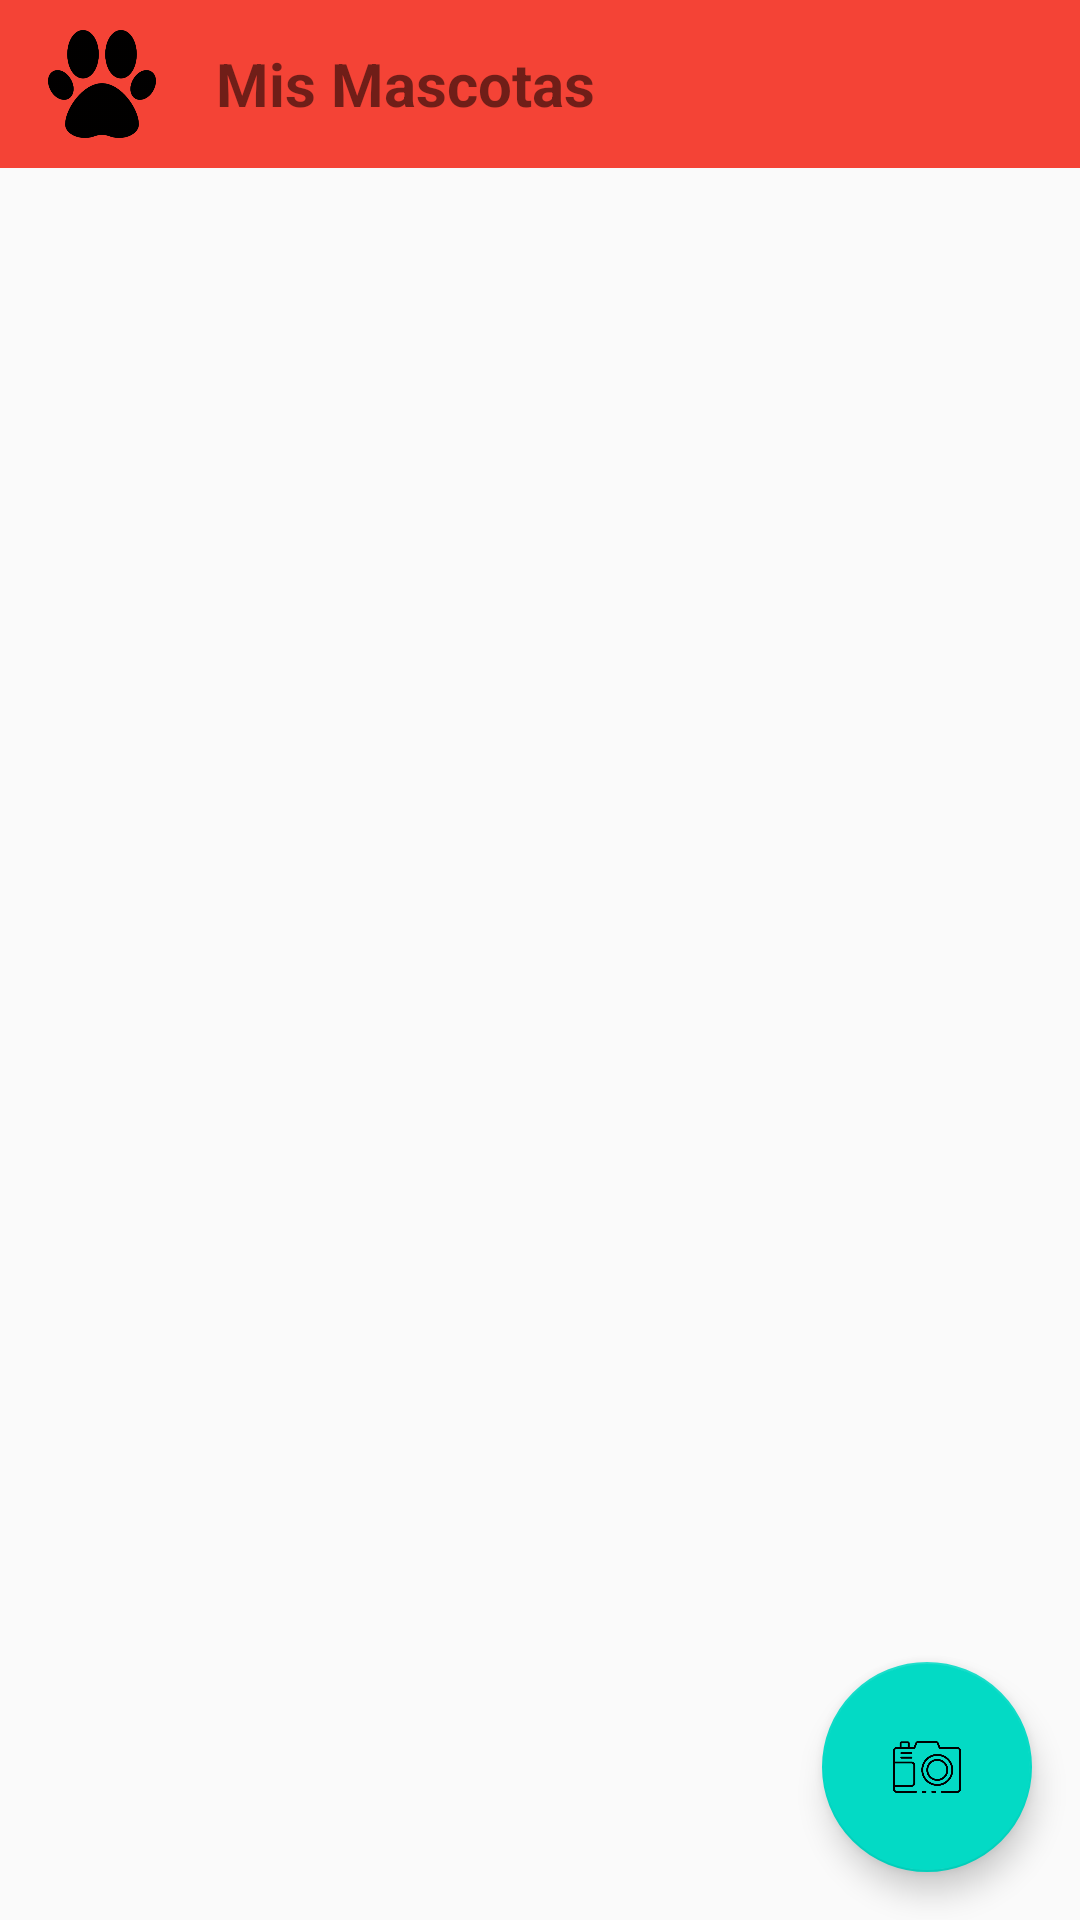

Icons on this 1080px×1920px Android screen, each with its box as (x1, y1, x2, y2):
camara: (822, 1662, 1032, 1872)
huella: (48, 30, 156, 138)
